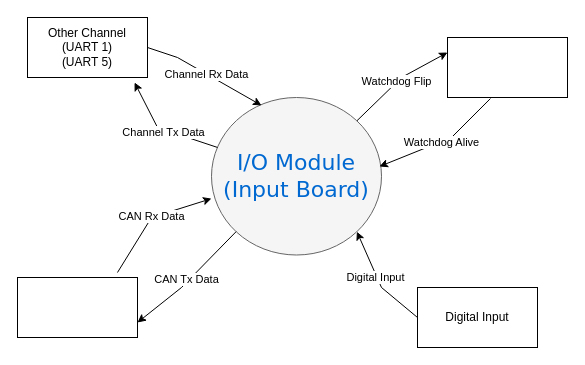
The diagram is 585 pixels wide and 365 high, and some of its shapes have lost their labels. The shapes that lost their labels are listed below. From the top down, each one's centre as x and y in pixels, then its label:
[507,67]: WatchDog
[77,307]: CPU Module
